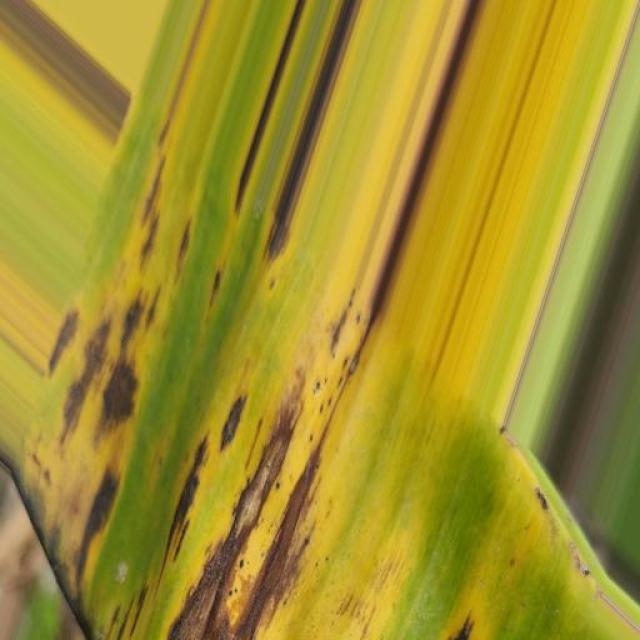Early_rust: (0, 131, 568, 640)
